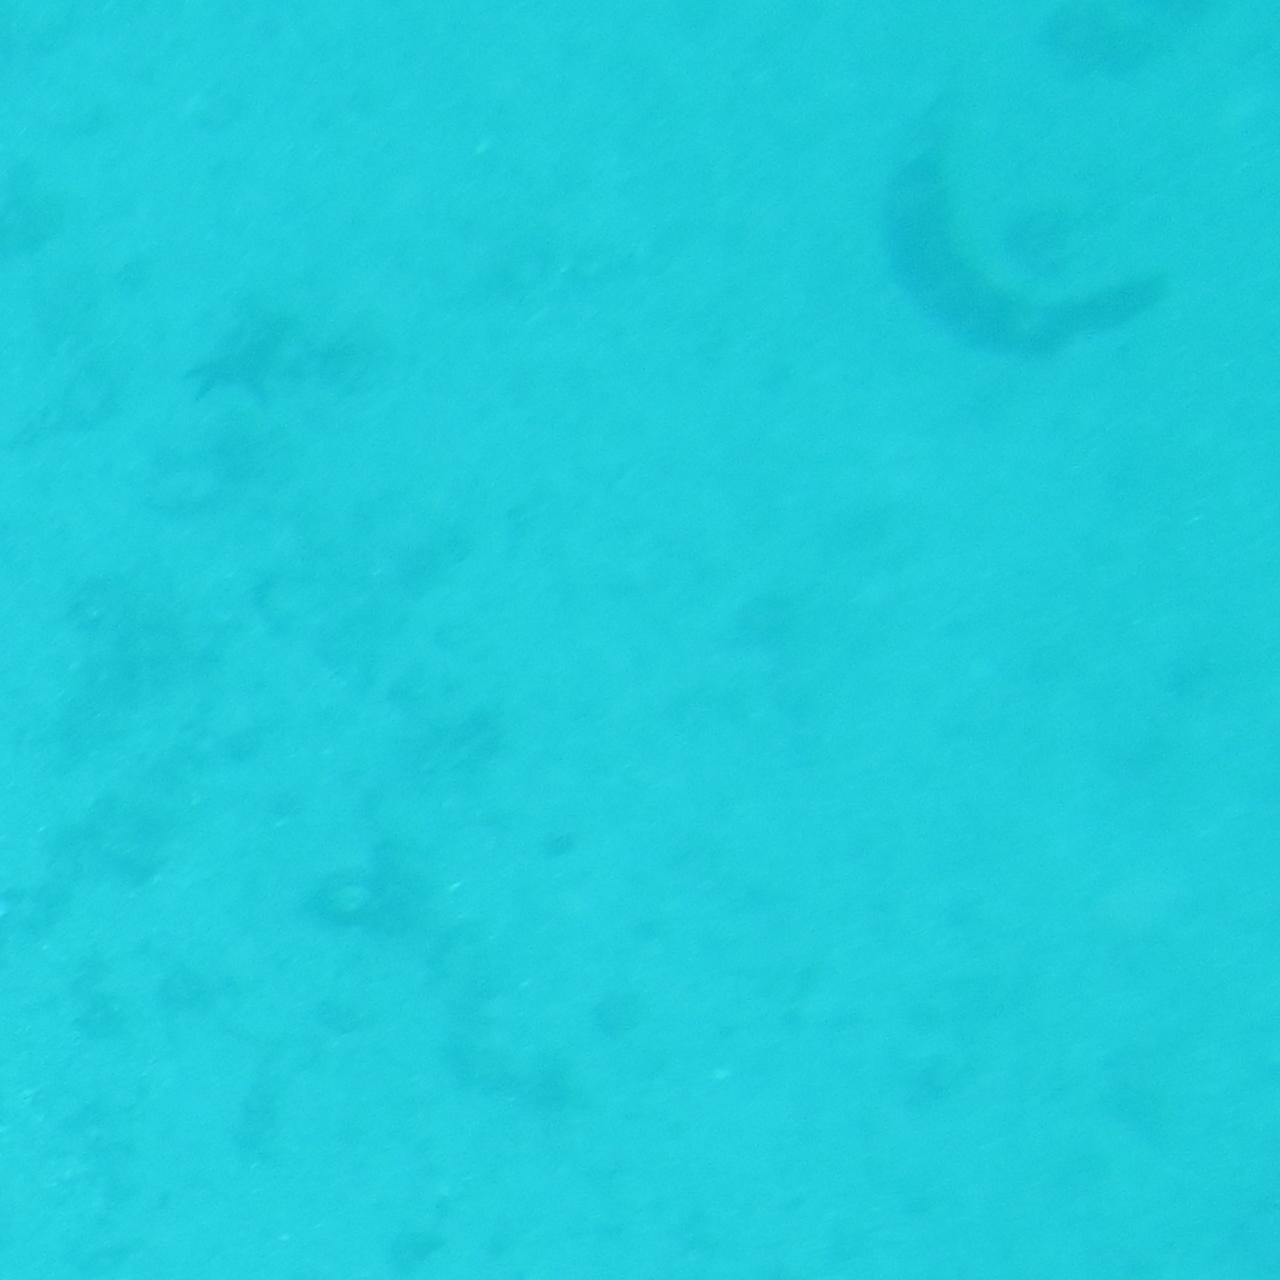Holothuria tubulosa: (864, 149, 1146, 359)
